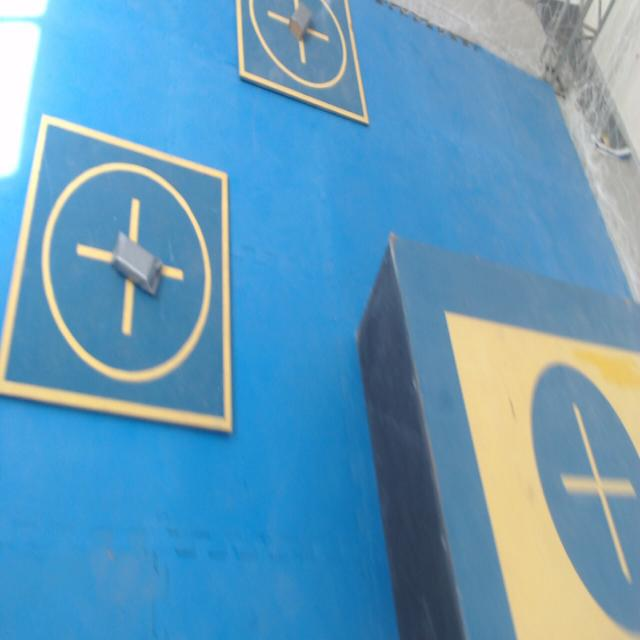lipo: (112, 232, 162, 294), (289, 4, 312, 43)
